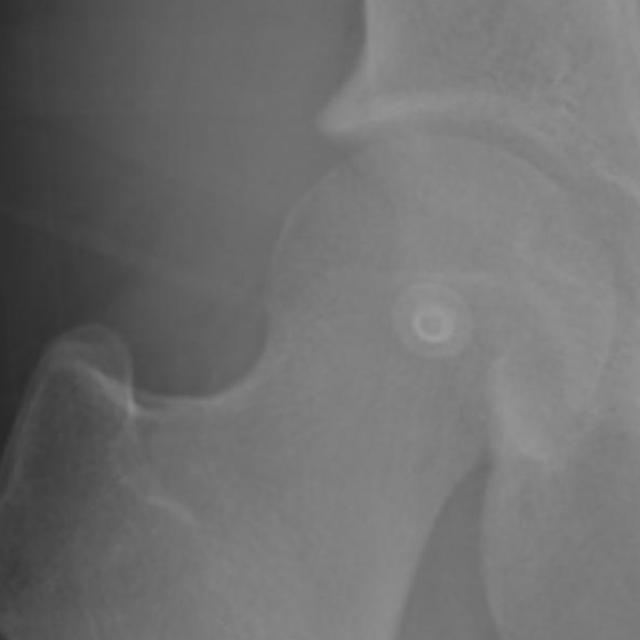Fitted_femural_head: (358, 137, 432, 358)
